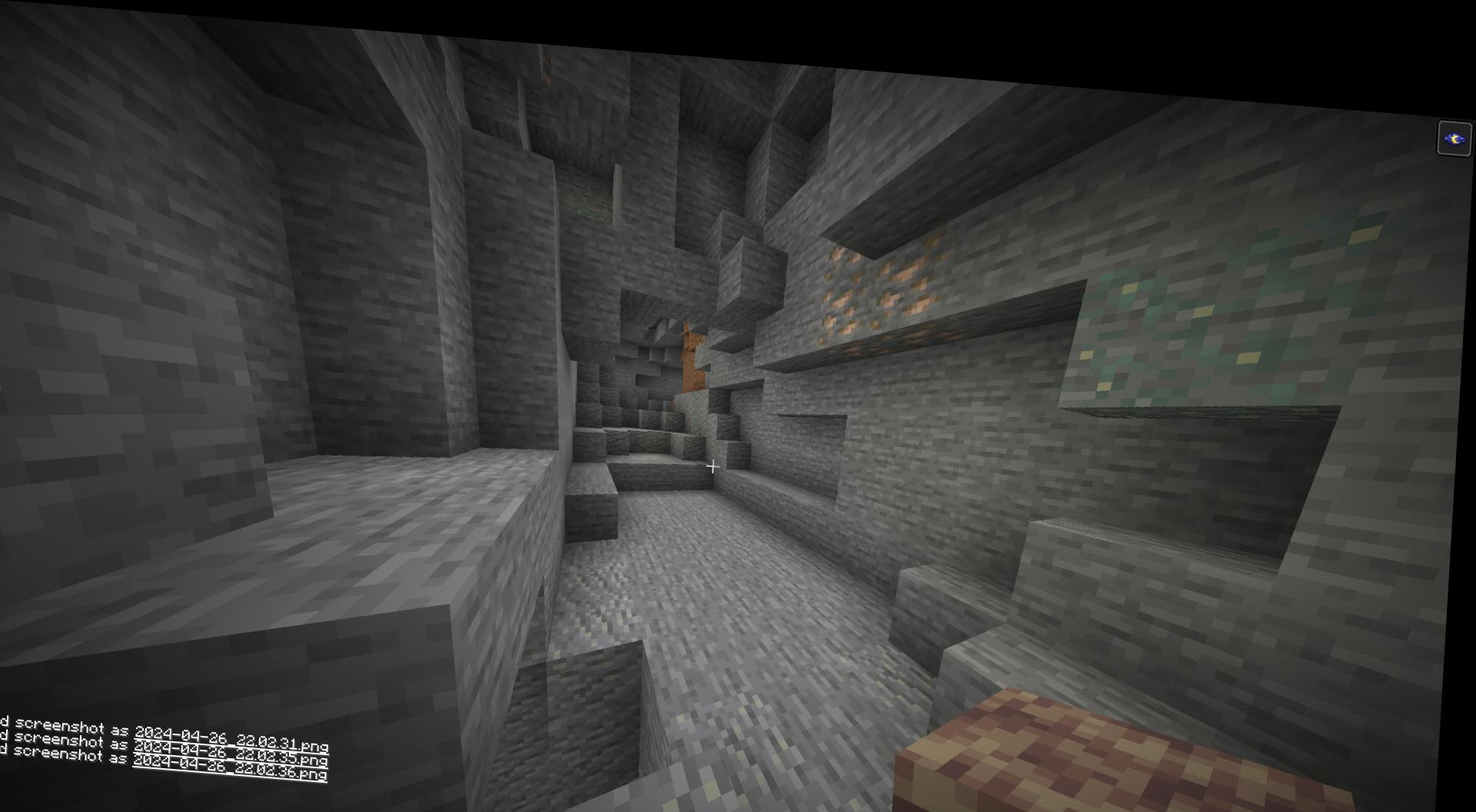iron ore: (868, 224, 950, 307), (822, 260, 868, 324)
